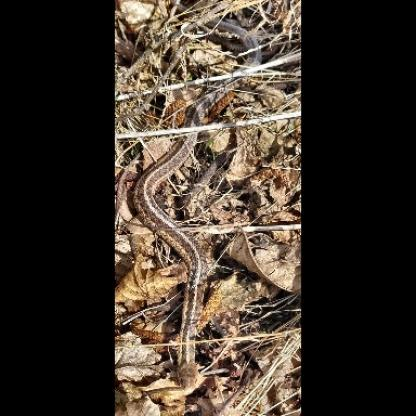Snake: (123, 123, 288, 305), (117, 335, 293, 416), (127, 1, 298, 76)
